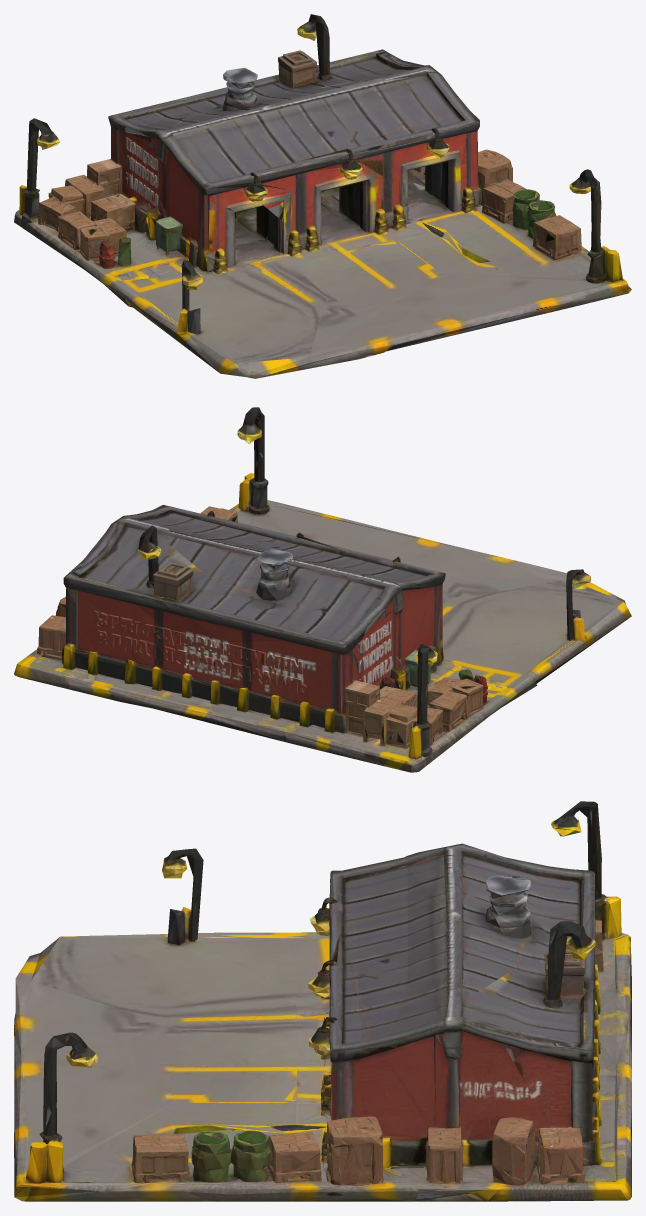
The model's file is truck_depot_bottom_entrance_se.glb.
The picture shows the model from 3 angles, top to bottom: view 1: azimuth 30°, elevation 25°; view 2: azimuth 150°, elevation 25°; view 3: azimuth 270°, elevation 25°; orthographic projection. The views are drawn at different scales.
Parts seen in each view (by area): view 1: normalize; view 2: normalize; view 3: normalize.
Part boxes in pixels (<box>): normalize: <box>14,14,631,378</box>; normalize: <box>14,407,631,772</box>; normalize: <box>14,801,631,1201</box>.
Bounding box in the file's own units: 0.9932 × 0.3715 × 1.
Materials: 1 (1 with a texture image).
